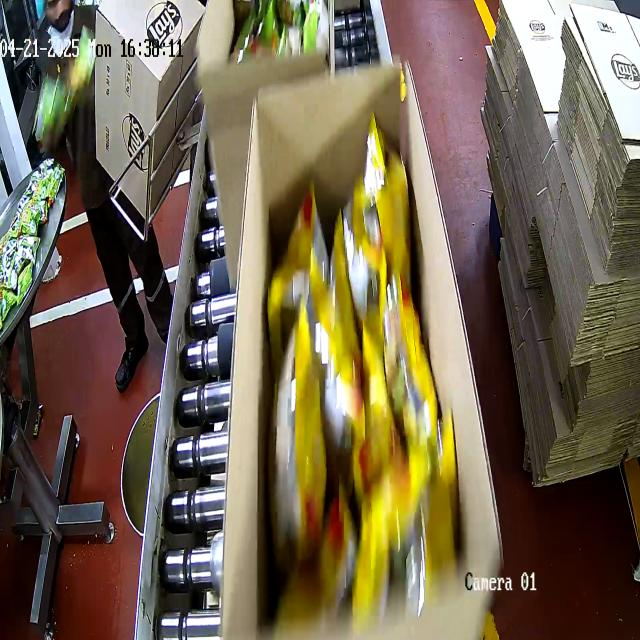SALTED: (266, 153, 449, 621)
